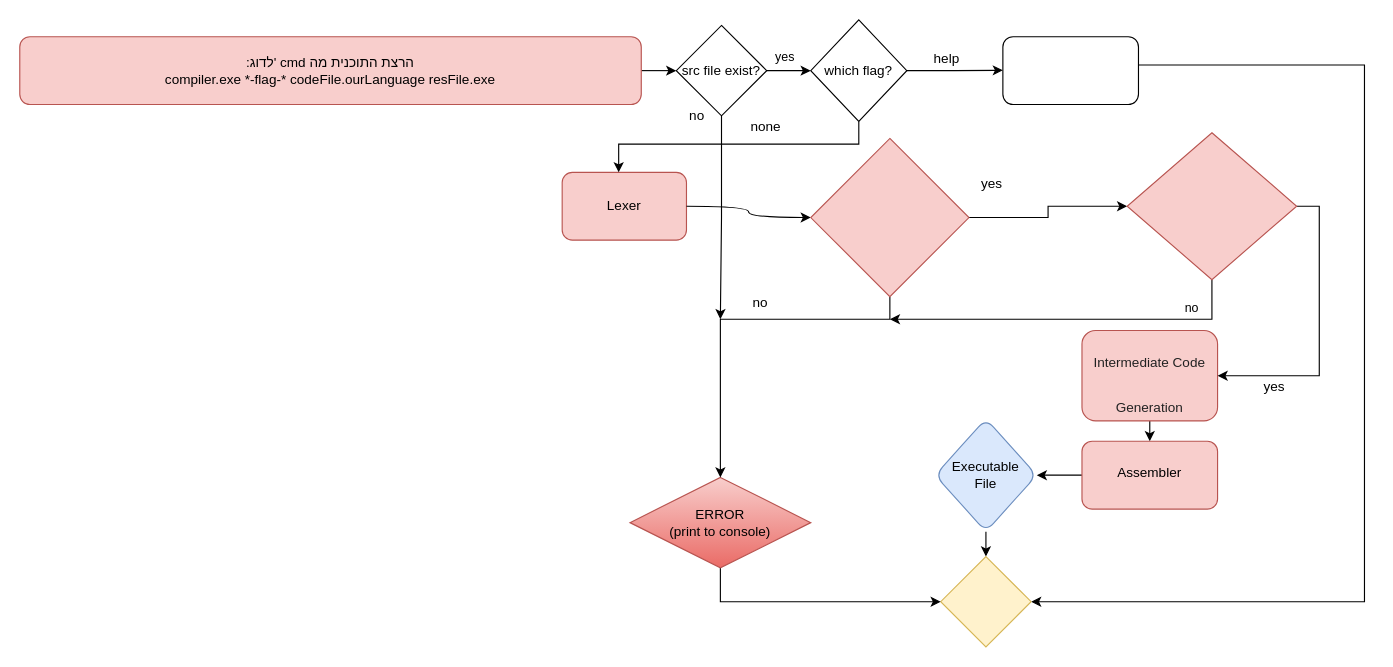
The diagram is 1393 pixels wide and 667 high, and some of its shapes have lost their labels. Each missing label, with the centre of its shape:
end: (x=985, y=601)
Parser (follows the rules of the language?): (x=889, y=217)
Visitor (follows the rules of logic?): (x=1211, y=206)
הדפסת רשימת הדגלים: (x=1070, y=70)
